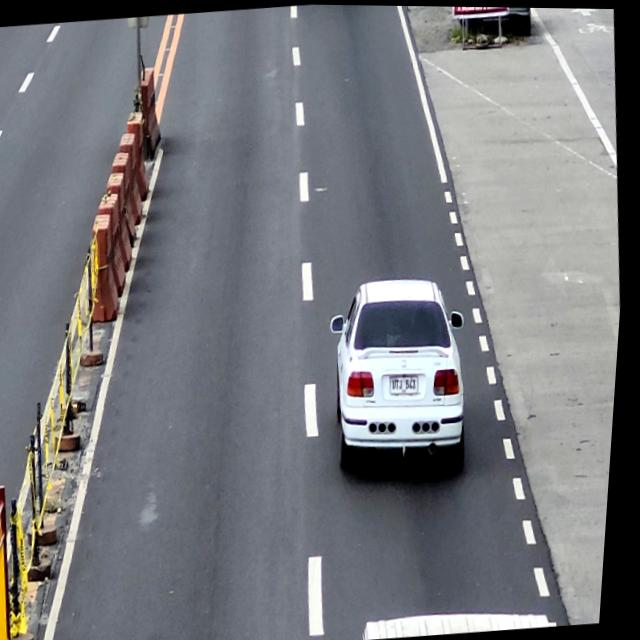Car: (324, 271, 484, 484)
License-Plate: (393, 373, 425, 396)
